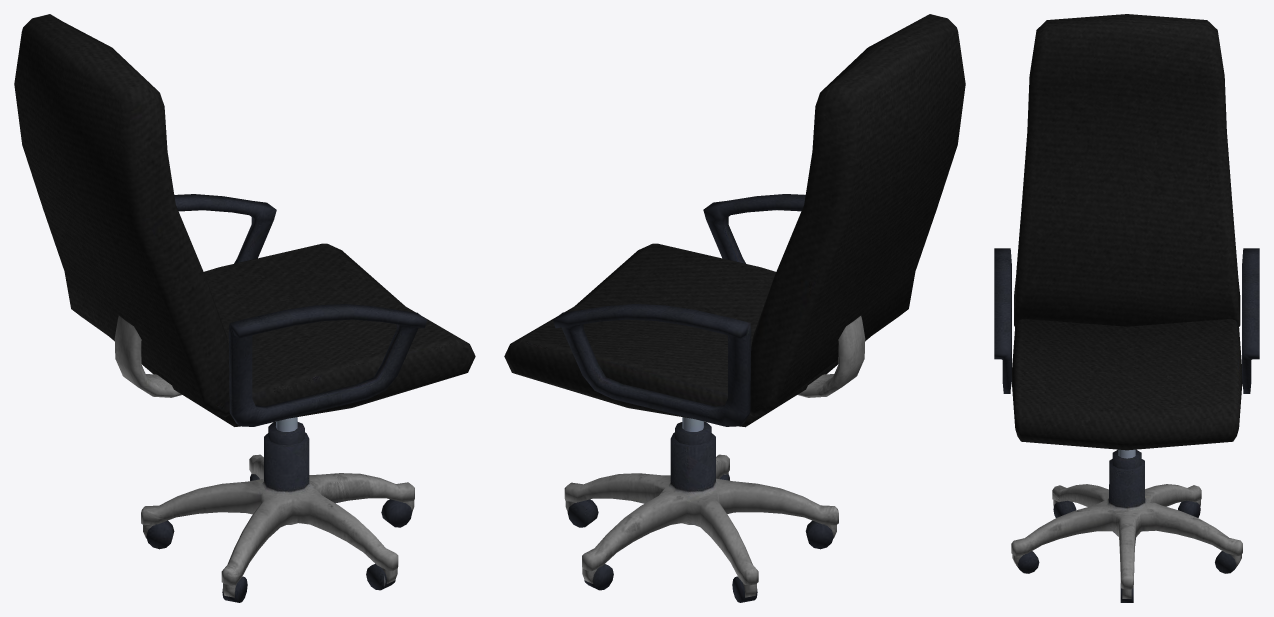
File: chaise_bureau.glb
3 renders of one model, left to right at view 1: azimuth 30°, elevation 25°; view 2: azimuth 150°, elevation 25°; view 3: azimuth 270°, elevation 25°, orthographic. The views are drawn at different scales.
Parts seen in each view (by area): view 1: chair; view 2: chair; view 3: chair.
Part boxes in pixels (x1,y1,x2,y2): chair: (14, 14, 475, 602); chair: (504, 14, 965, 602); chair: (994, 14, 1259, 602).
Bounding box in the file's own units: 0.786 × 1.18 × 0.6176.
Materials: 1 (1 with a texture image).
